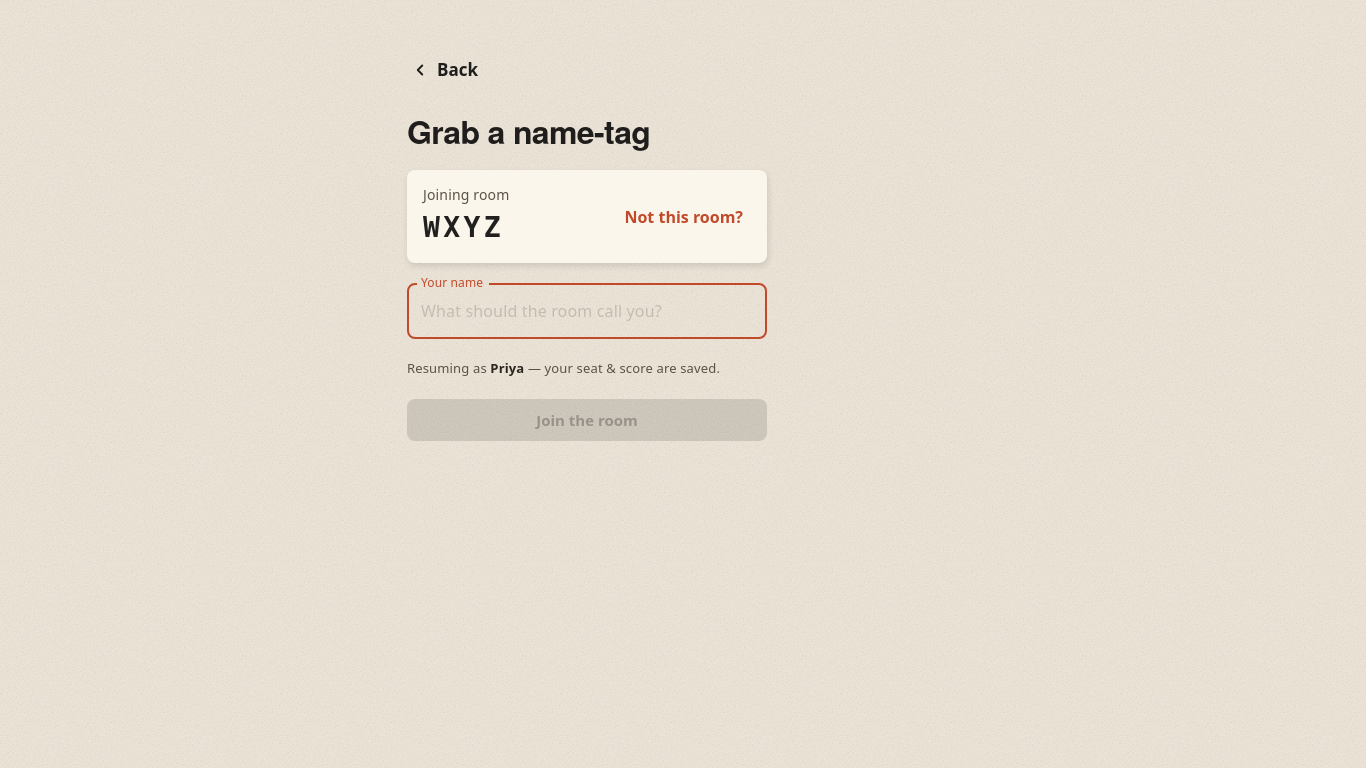
join link + join form (UX-2) › "Not this room?" clears the code back to an empty, focused code field
The image size is (1366, 768).
Click the button "Not this room?".
click(684, 217)  # box [616,195,751,239]
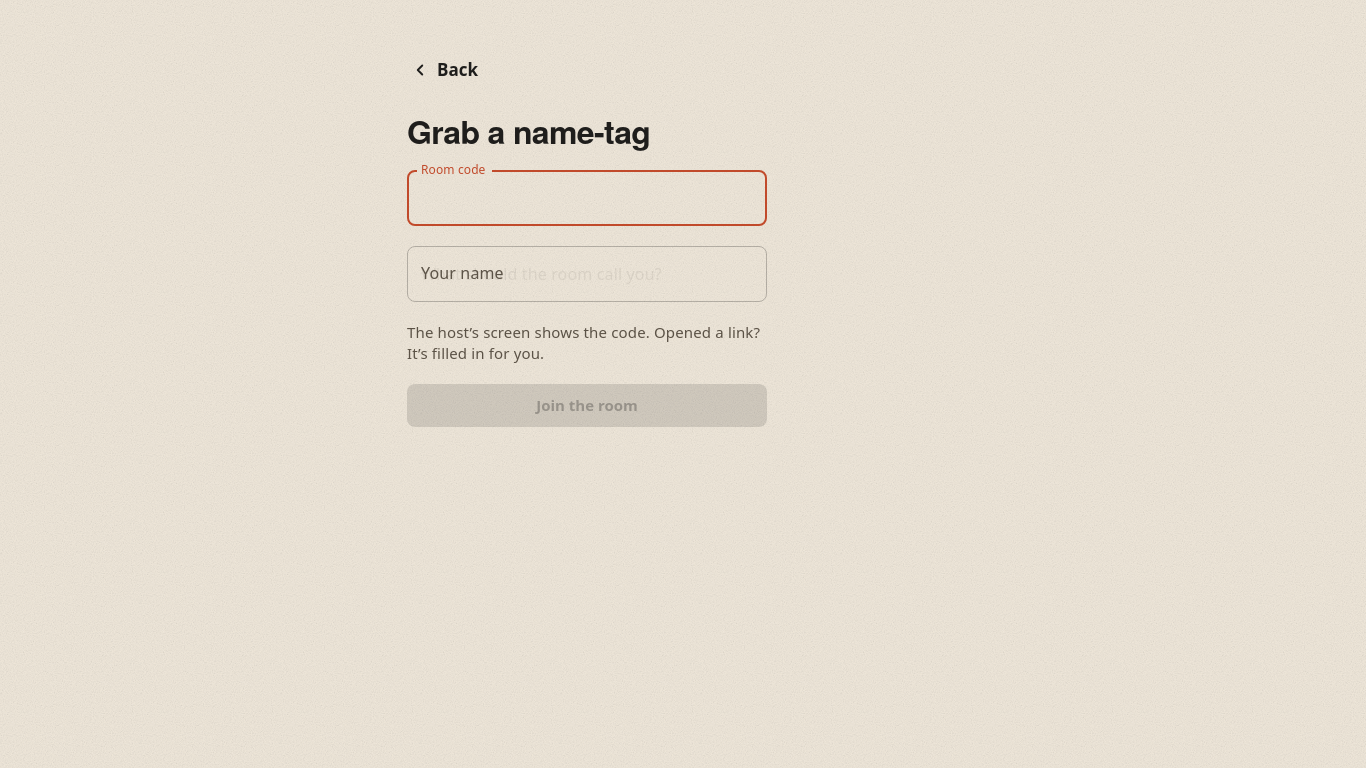
Check: the text "Joining room" is gone
Check: the field labelled "Room code" is empty, box [407,170,767,226]
